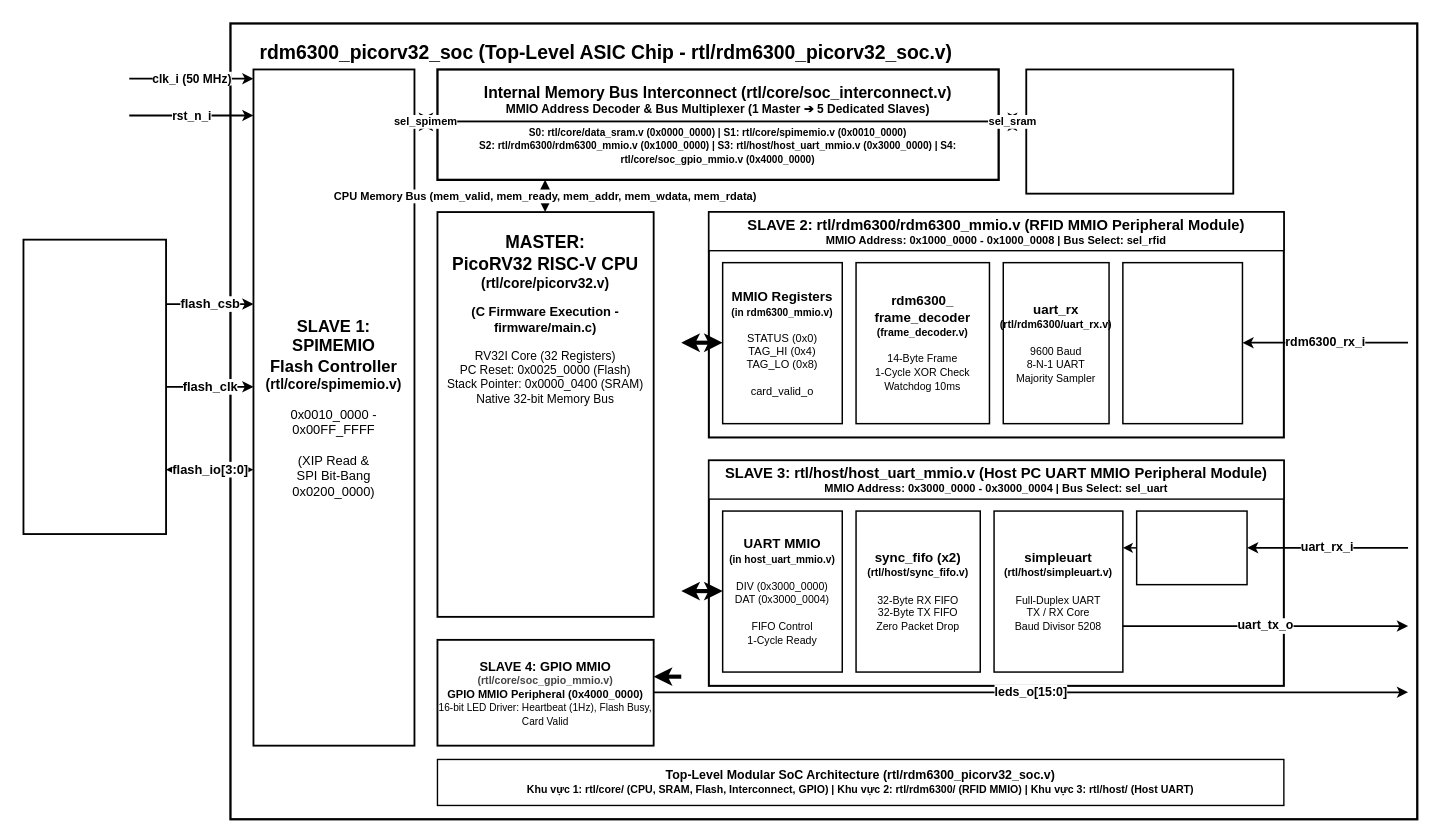
Image size: 1435x837. Some labels were removed from this diagram. Here are the shapes that lost their labels. From the top down, the centre of each, then its label:
point (1129, 131): SLAVE 0: 1KB Data SRAM (rtl/core/data_sram.v) 0x0000_0000 (Stack & Variables)
point (1182, 342): sync_2ff (rtl/core/sync_2ff.v) 2-FF CDC Sync MTBF > 1000 Yrs
point (94, 386): External SPI Flash (Off-Chip) - Firmware Storage (W25Q128)
point (1191, 547): sync_2ff (rtl/core/sync_2ff.v) CDC Sync
